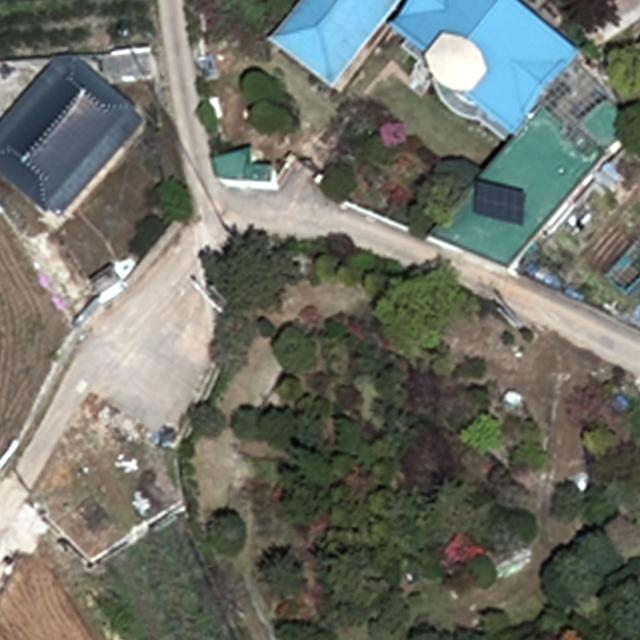panel: (471, 174, 530, 228)
